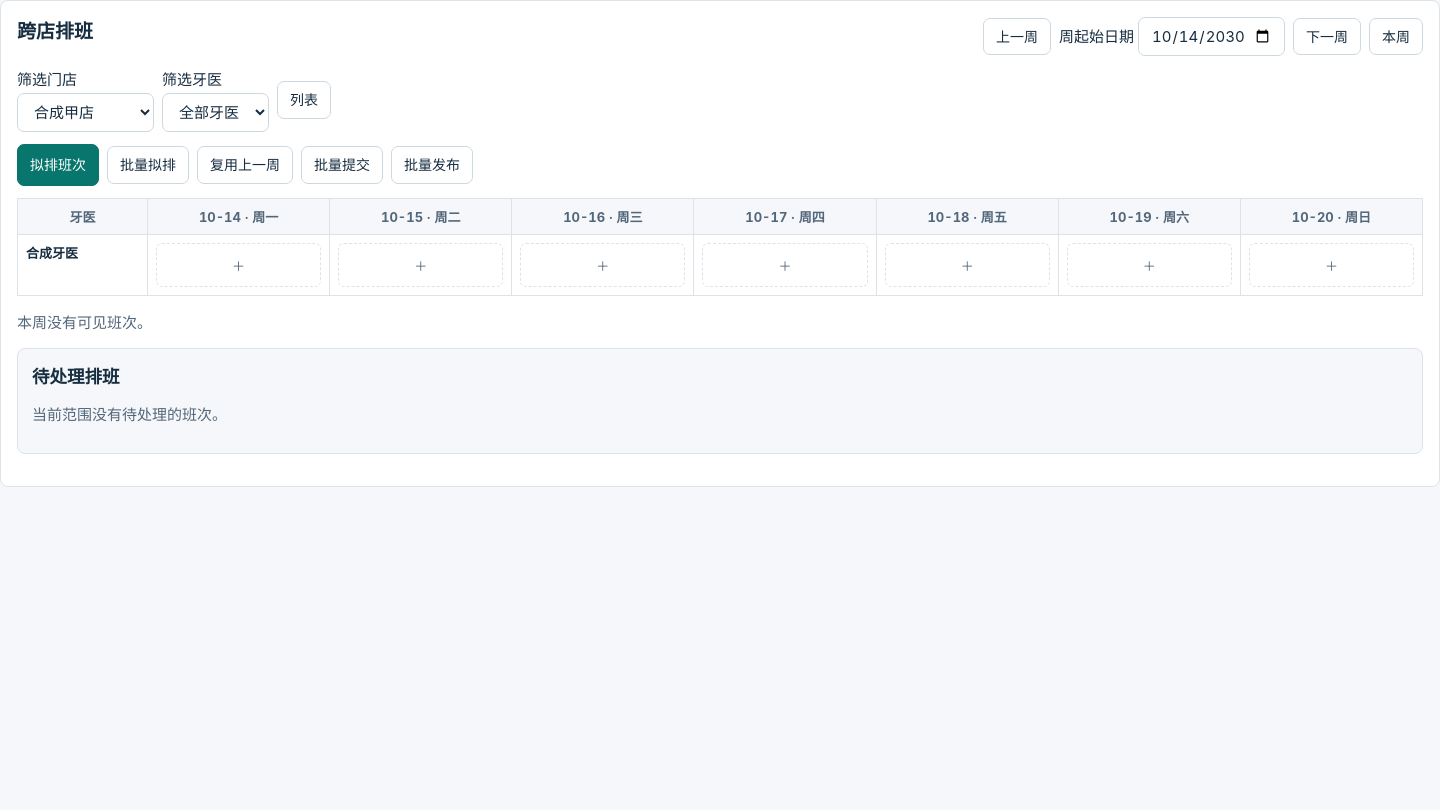
Test case: an empty cell opens a draft for that doctor and date
Click the button named "为合成牙医添加 2030-10-16 班次" at [603, 265], box [520,243,685,287]
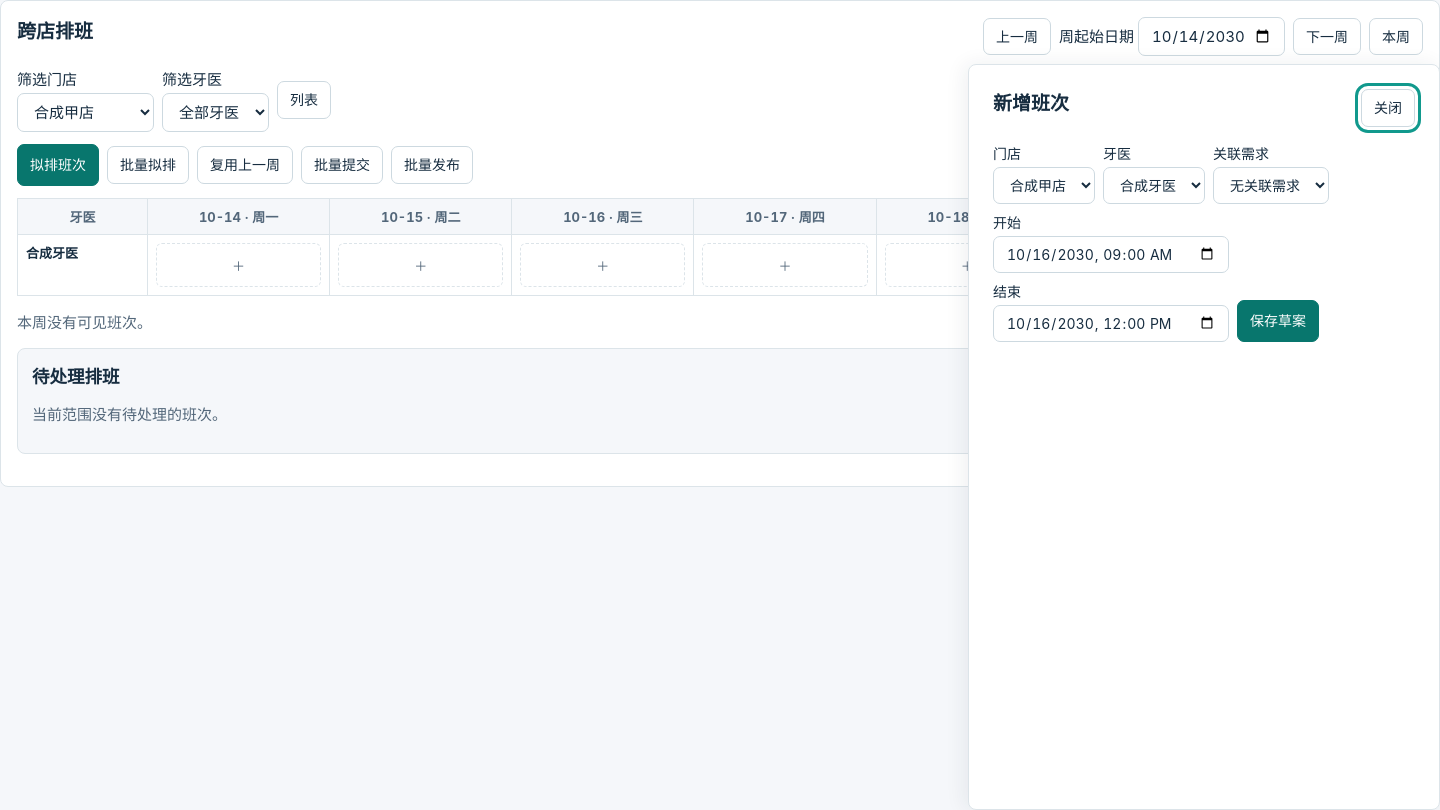
expect the dropdown labelled "牙医" shows "合成牙医": met, box [1103,167,1205,204]
expect the field labelled "开始" holds "2030-10-16T09:00": met, box [993,236,1229,273]
